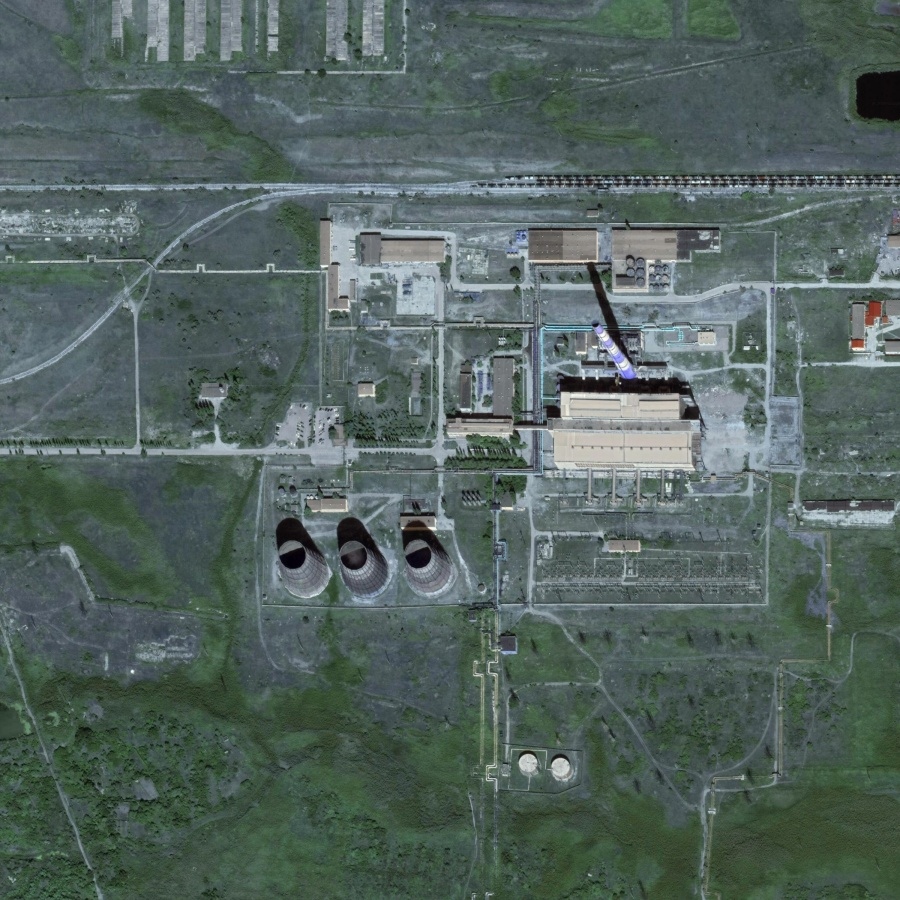PowerPlant: (249, 200, 730, 629)
